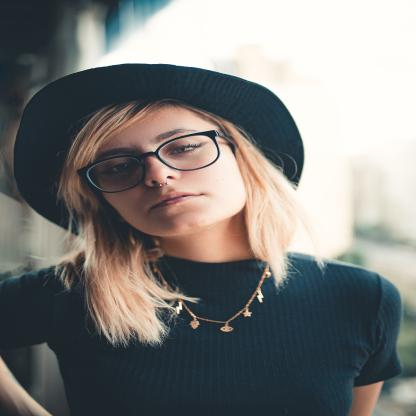Eye: (161, 140, 206, 160), (95, 161, 139, 178)
Mouth: (141, 185, 210, 211)
Nose: (142, 154, 182, 188)
